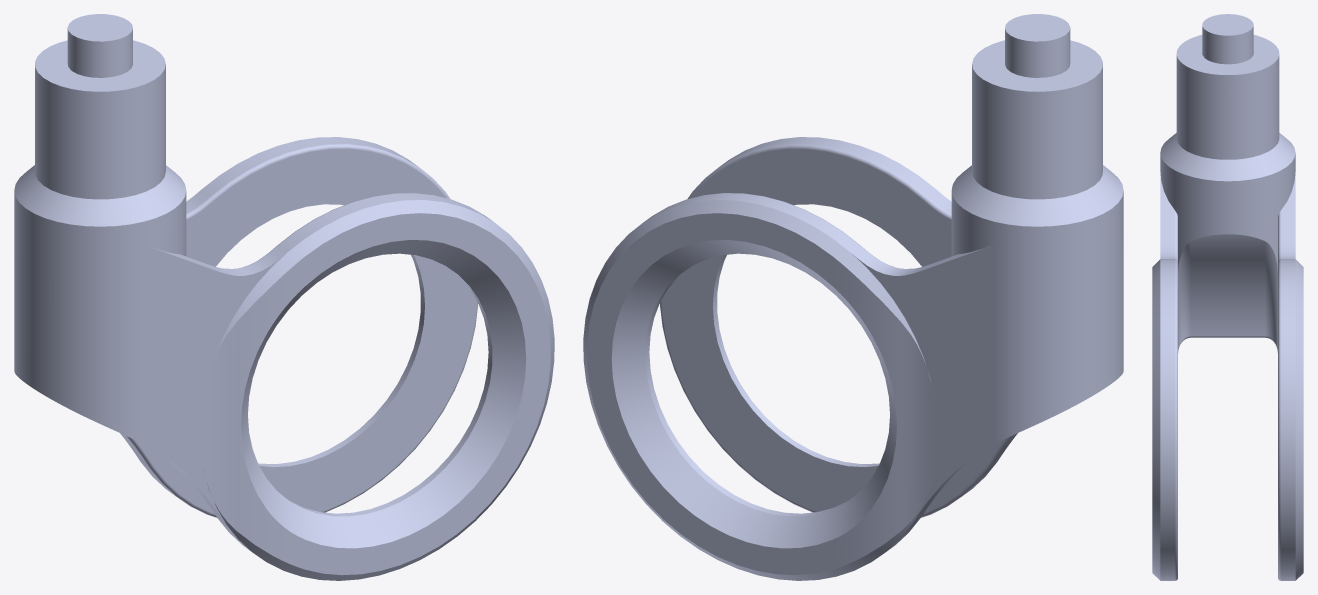
File: Link_FrontRight_WheelFrame.obj
The picture shows the model from 3 angles, left to right: view 1: azimuth 30°, elevation 25°; view 2: azimuth 150°, elevation 25°; view 3: azimuth 270°, elevation 25°; orthographic projection. The views are drawn at different scales.
Parts seen in each view (by area): view 1: Body1; view 2: Body1; view 3: Body1.
Part boxes in pixels (x1=…): Body1: x1=14, y1=14, x2=554, y2=580; Body1: x1=583, y1=14, x2=1123, y2=580; Body1: x1=1152, y1=14, x2=1303, y2=580.
Bounding box in the file's own units: 6.85 × 7.73 × 2.35.
